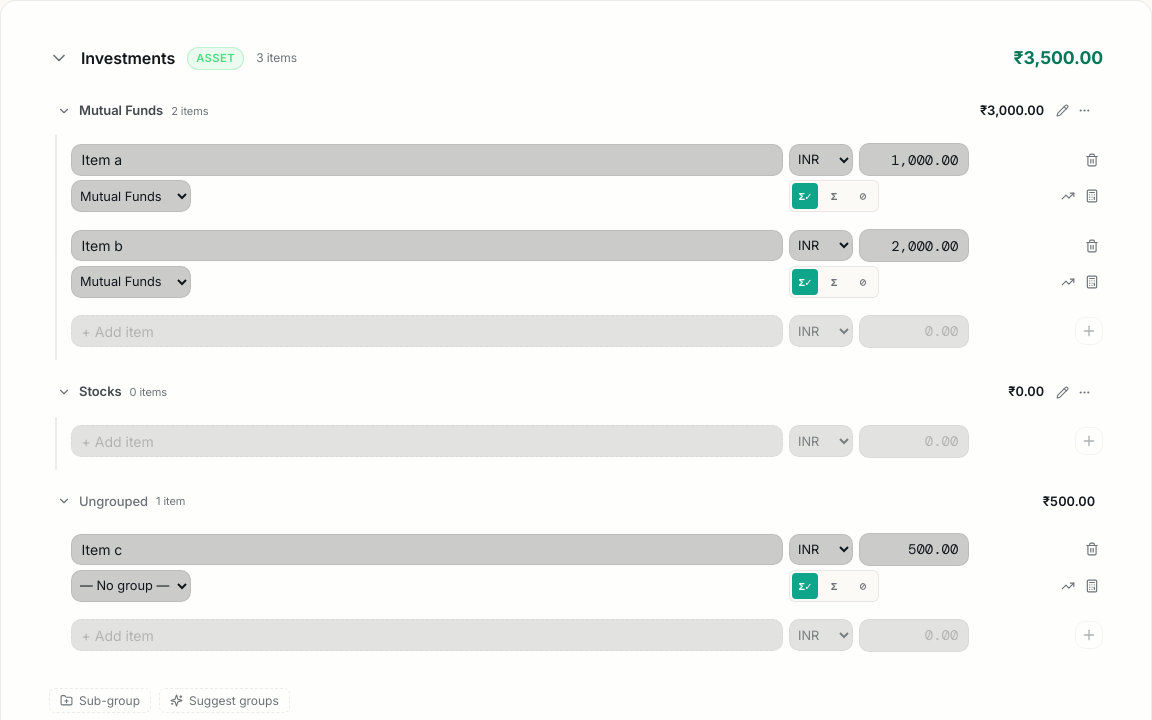
Test: CategorySection with sub-categories › hints that an existing group will be reused before committing
Select "+ New group…" in the dropdown named "Group for Item c" at (131, 586), box top-left (71, 570), bottom-right (191, 602)
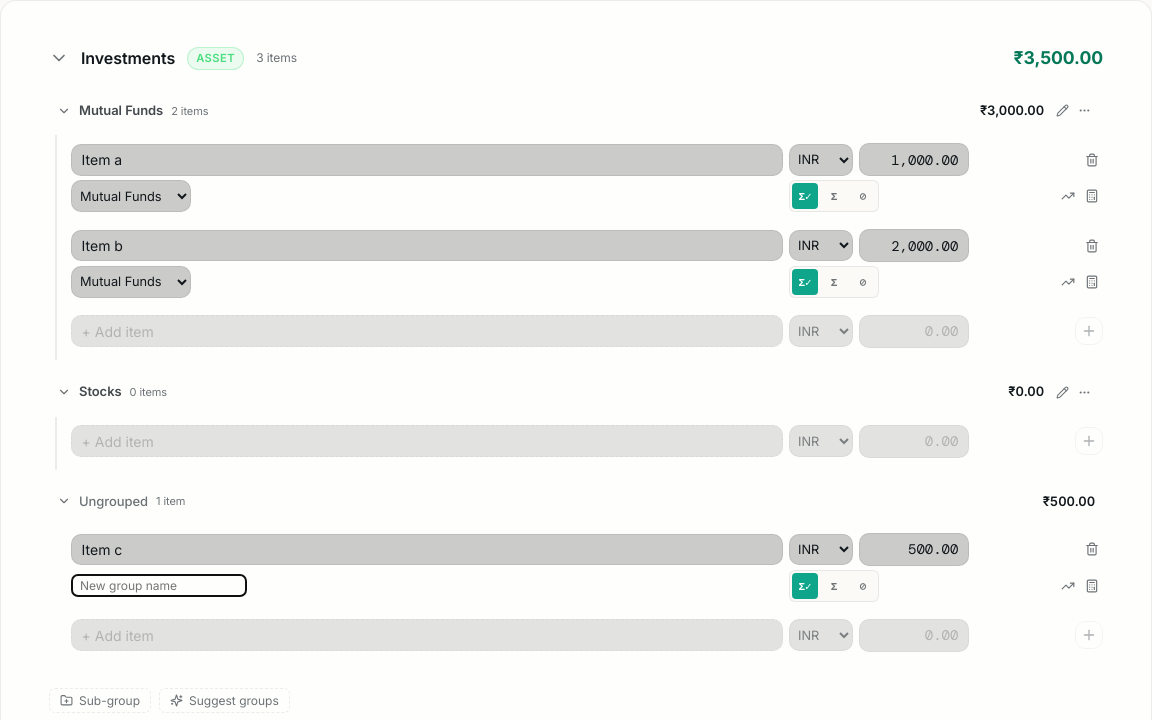
Type "mutual funds" into the field named "New group for Item c" at (159, 586), box top-left (71, 574), bottom-right (247, 597)
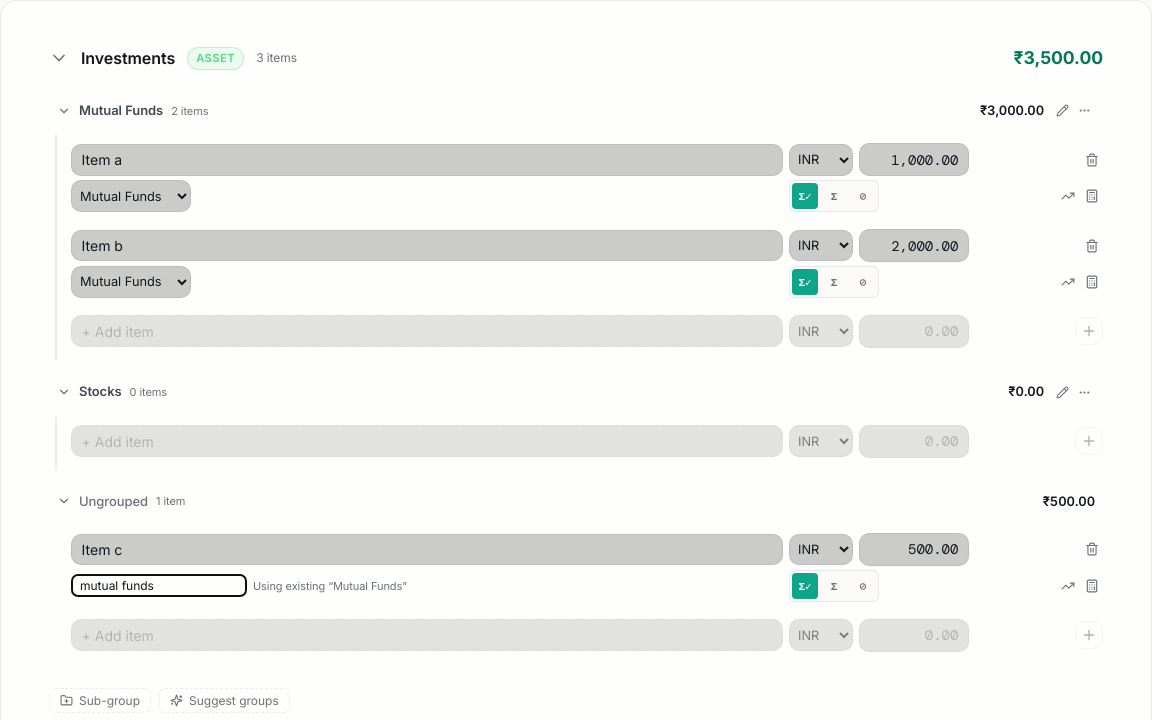
Result: the text "Using existing “Mutual Funds”" is shown at top-left (253, 578), bottom-right (407, 594)
